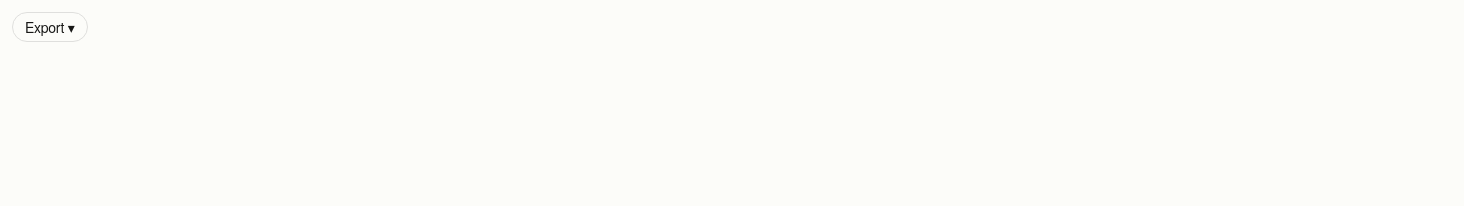
it: ExportMenu › opens on click, activates an item, and closes back to the button
Click the button with test id "export-menu". click: (50, 27)
box: x1=12 y1=12 x2=88 y2=42
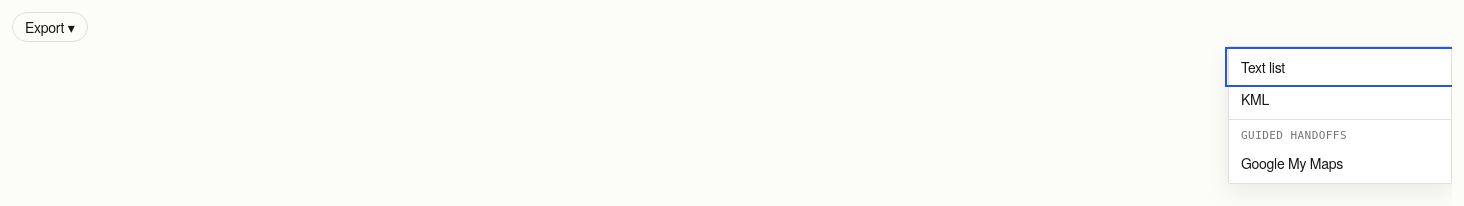
Result: the number of menu items is 3
Result: the element "Guided handoffs" is shown at x1=1229 y1=119 x2=1451 y2=178
Click the menu item with test id "export-kml". click: (1340, 99)
box: x1=1229 y1=83 x2=1451 y2=115
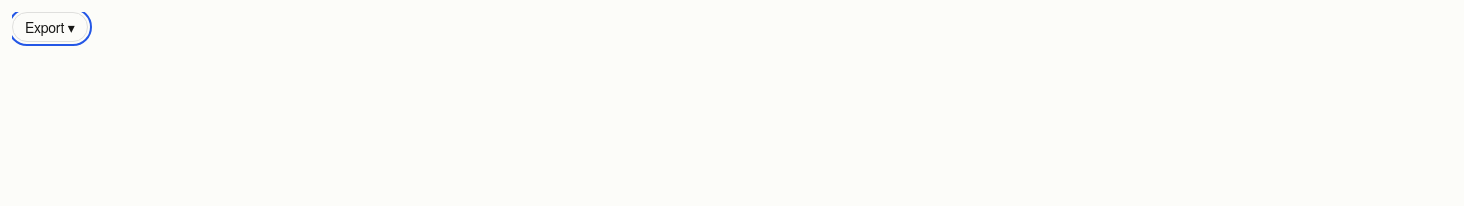
Result: the menu is gone
